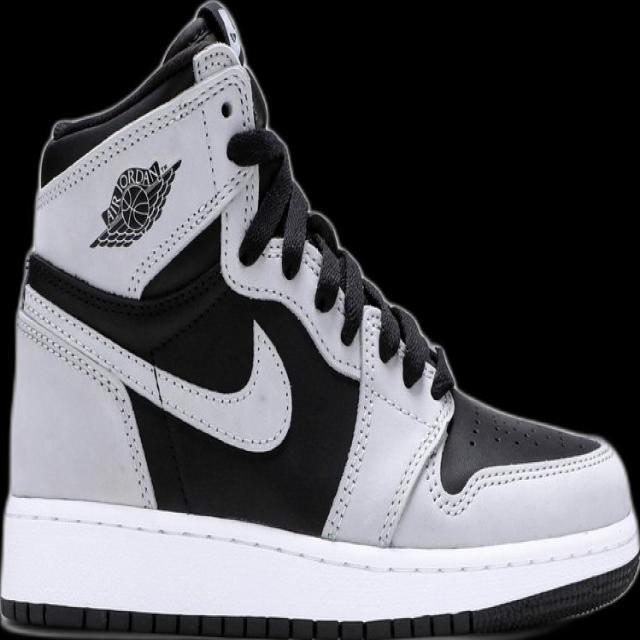J1_InsoleChar: (1, 1, 637, 638)
J1_ShoeLogo: (88, 157, 181, 249)
J1_StitchPattern: (225, 125, 452, 397), (2, 496, 637, 581), (1, 556, 637, 638), (15, 281, 293, 452), (319, 300, 455, 546), (14, 283, 160, 508), (35, 63, 254, 209), (299, 206, 438, 390), (3, 600, 474, 638), (319, 304, 383, 542), (426, 441, 615, 518), (374, 393, 455, 548), (14, 312, 128, 406), (302, 208, 366, 345)
